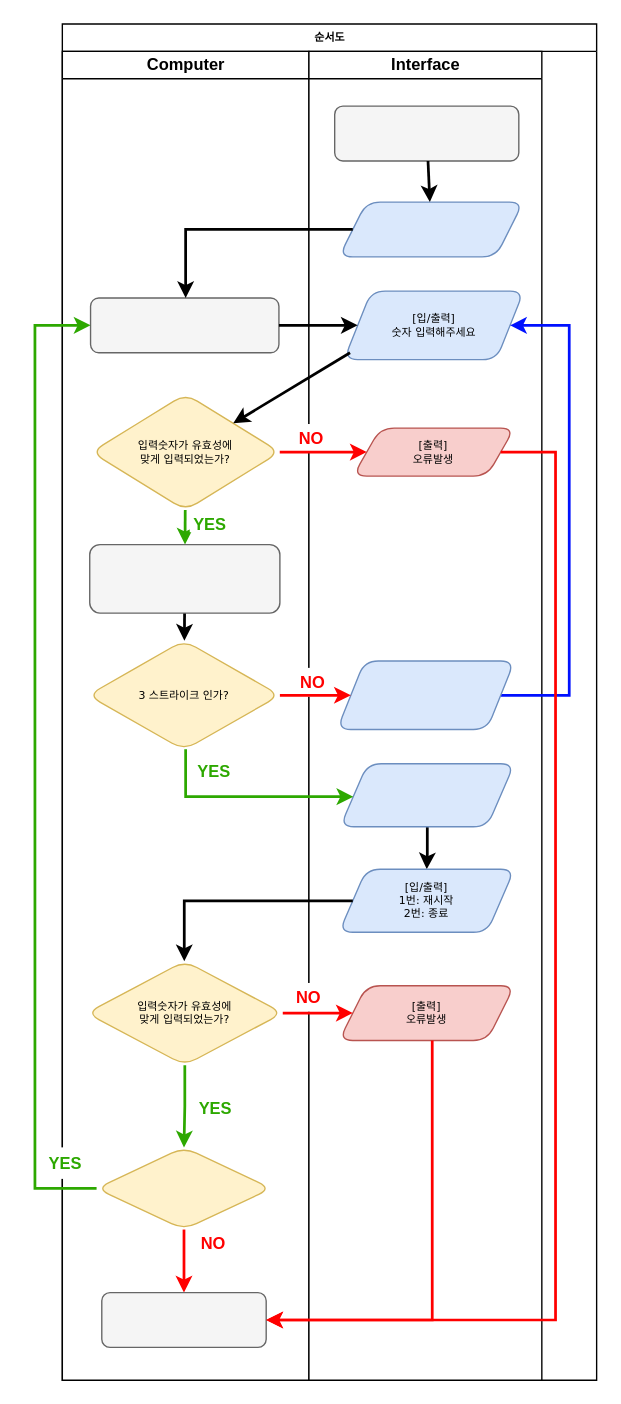
This 621x1404 diagram has some shape labels left out. The box of each missing label's shape, as (x1, y1, x2, y2) in pixels:
3자리 랜덤숫자 생성: (89, 297, 279, 353)
[출력] 3개 숫자를 맞춤 게임종료: (339, 762, 514, 827)
[출력] 게임시작 알림: (338, 201, 523, 257)
[출력] 계산 결과값 (1스트라이크 2볼): (336, 660, 514, 730)
App Play: (333, 105, 519, 161)
게임종료: (100, 1291, 266, 1347)
숫자 1(재시작)인가?: (95, 1146, 271, 1230)
숫자야구 계산처리 (스트라이크 볼 계산): (88, 543, 280, 613)
